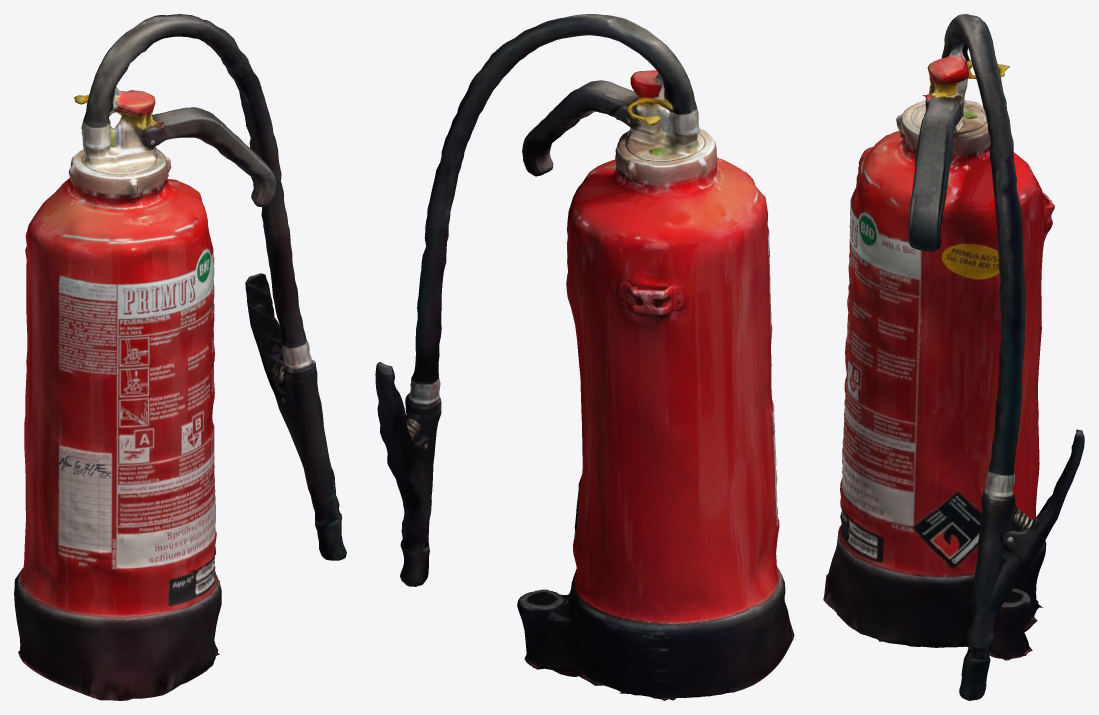
The model's file is feuerloescher.glb.
3 renders of one model, left to right at view 1: azimuth 30°, elevation 25°; view 2: azimuth 150°, elevation 25°; view 3: azimuth 270°, elevation 25°, orthographic. The views are drawn at different scales.
Visible parts, largest first — view 1: ObjectCapture; view 2: ObjectCapture; view 3: ObjectCapture.
Boxes of the visible parts, box(x1,y1,x2,y2) form: ObjectCapture: box(14, 14, 346, 700); ObjectCapture: box(375, 14, 794, 700); ObjectCapture: box(823, 14, 1084, 700).
Size of the model in its own units: 0.3175 by 0.5562 by 0.2136.
1 material, 1 textured.
